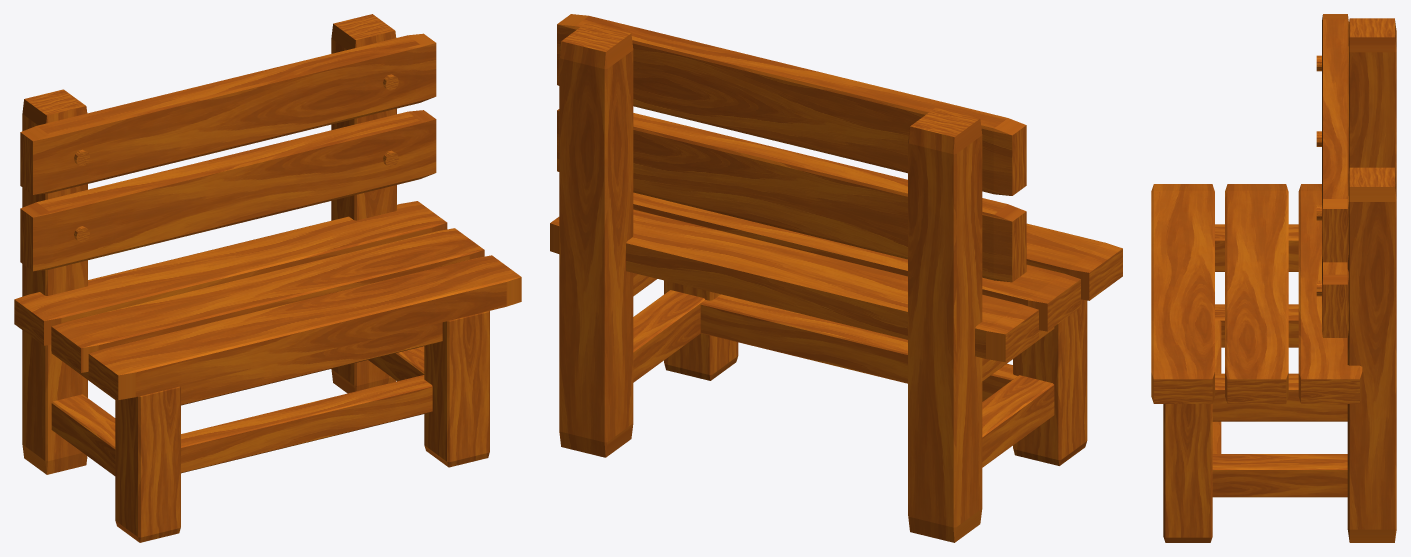
File: bench.gltf
3 renders of one model, left to right at view 1: azimuth 30°, elevation 25°; view 2: azimuth 150°, elevation 25°; view 3: azimuth 270°, elevation 25°, orthographic. The views are drawn at different scales.
Parts seen in each view (by area): view 1: bench; view 2: bench; view 3: bench.
Part boxes in pixels (bbox=[...]): bench: bbox=[14, 14, 521, 542]; bench: bbox=[550, 14, 1122, 542]; bench: bbox=[1151, 14, 1396, 542].
Bounding box in the file's own units: 0.94 × 0.8 × 0.5.
Materials: 1 (1 with a texture image).
